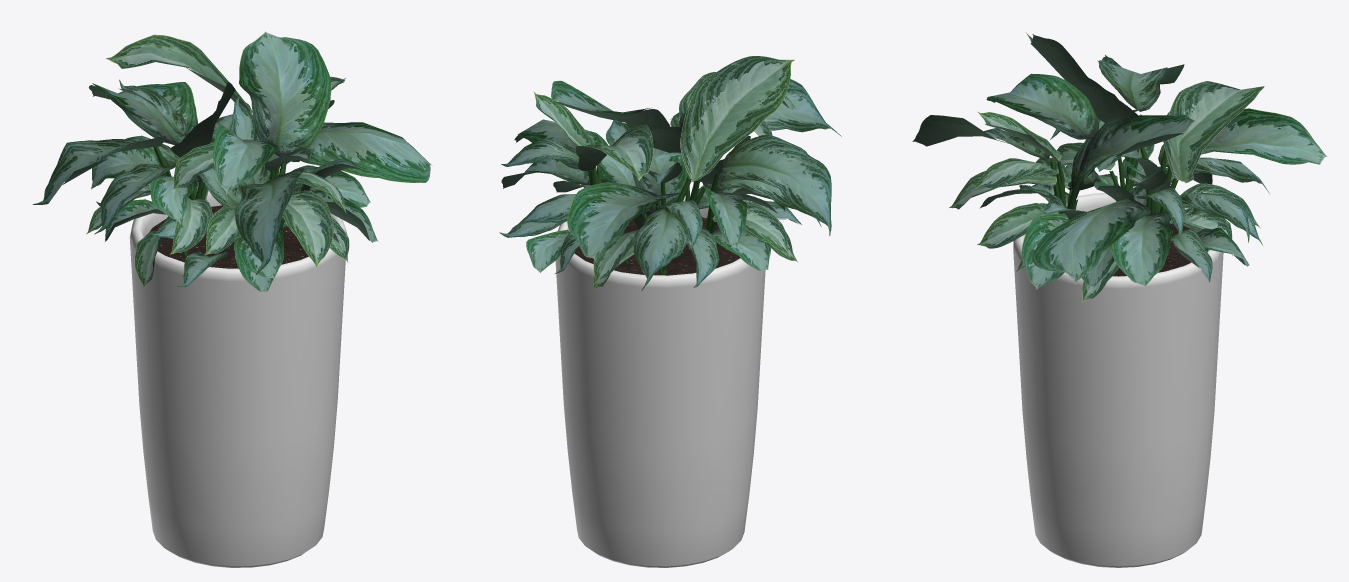
Rendered from tallplant.glb.
The picture shows the model from 3 angles, left to right: view 1: azimuth 30°, elevation 25°; view 2: azimuth 150°, elevation 25°; view 3: azimuth 270°, elevation 25°; orthographic projection. The views are drawn at different scales.
Parts seen in each view (by area): view 1: potTall_aglaonema; view 2: potTall_aglaonema; view 3: potTall_aglaonema.
Boxes of the visible parts, left/top/right/bottom form: potTall_aglaonema: left=32, top=31, right=432, bottom=567; potTall_aglaonema: left=499, top=56, right=841, bottom=567; potTall_aglaonema: left=912, top=32, right=1327, bottom=567.
Size of the model in its own units: 1.25 by 1.61 by 1.3.
Materials: 3 (2 with a texture image).
